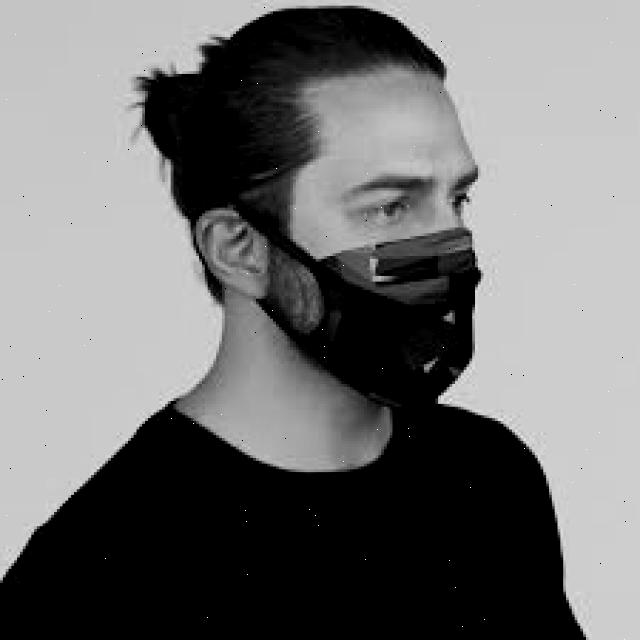fake: (285, 224, 487, 413)
real: (284, 71, 483, 424)
